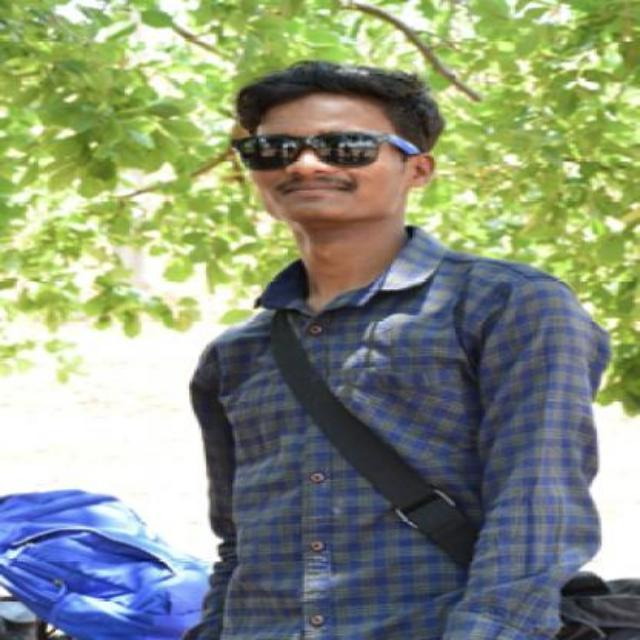sunglasses: (228, 128, 420, 168)
